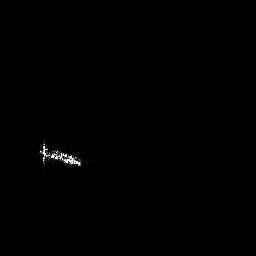ship: (36, 137, 85, 171)
